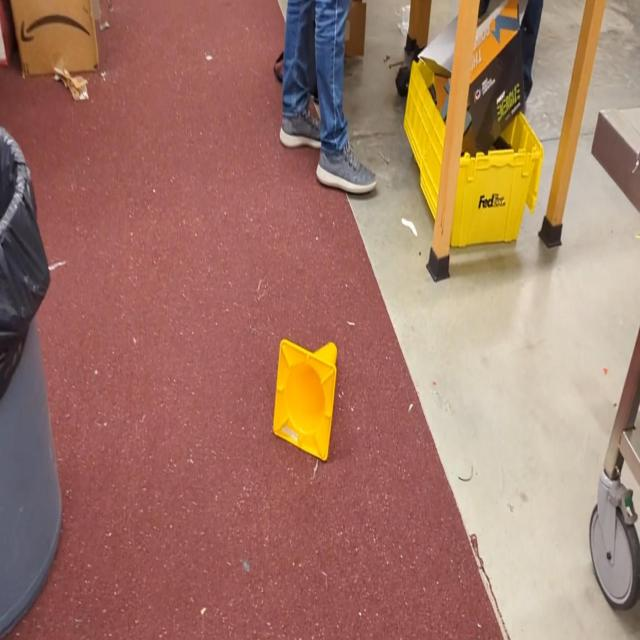frc_cone: (273, 340, 338, 461)
